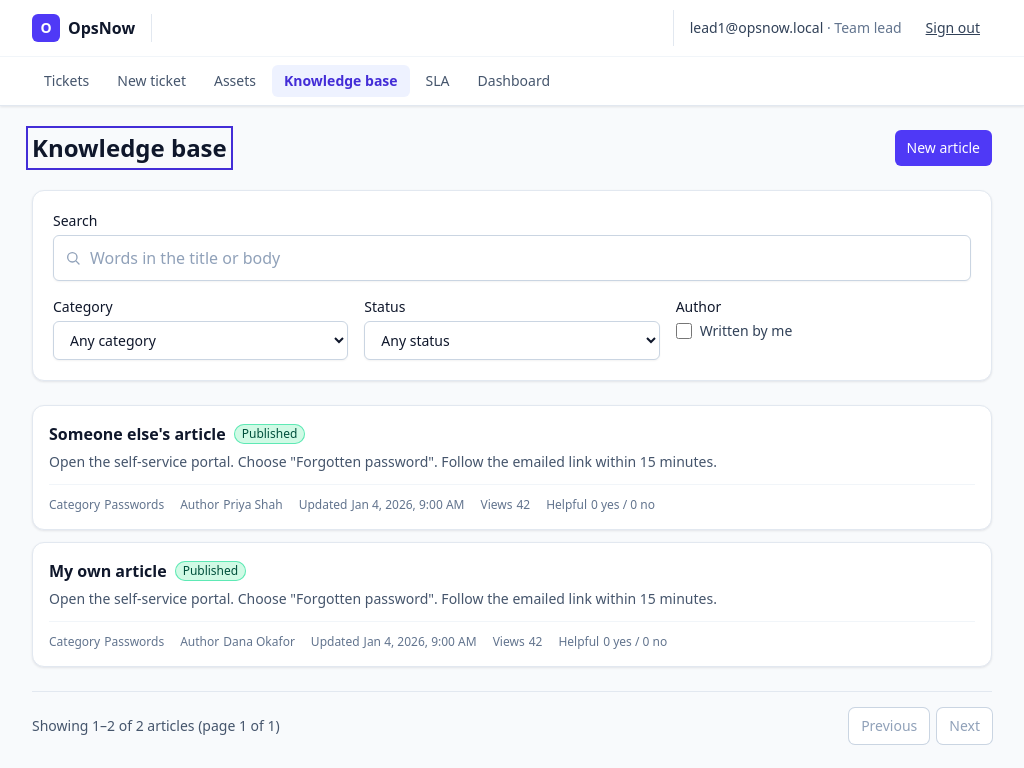
Test: article list — filtering › narrows the list to the signed-in author with "Written by me"
expect the heading "Knowledge base" is shown: met, box [32,132,227,164]
Click the checkbox labelled "Written by me": [684, 331] box [676,323,692,339]
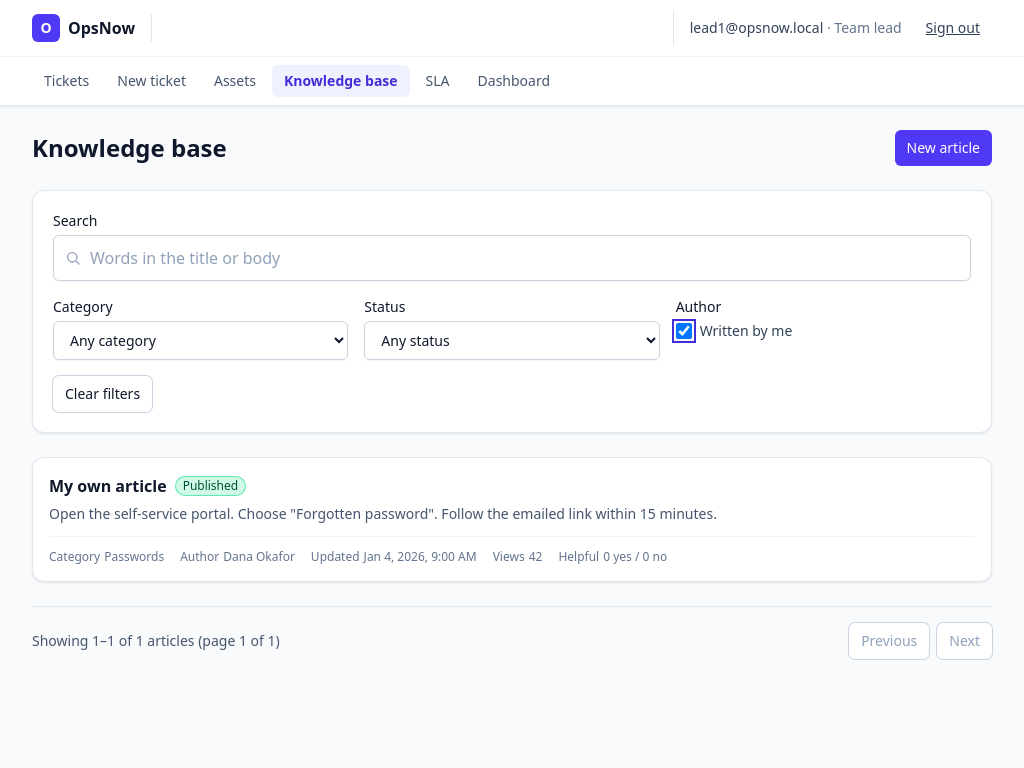
expect the link "My own article" is shown: met, box [49,474,167,498]
expect the link "Someone else's article" is gone: met
